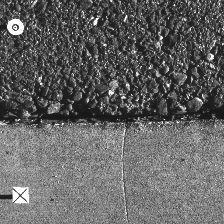circle: (6, 18, 24, 36)
crack: (1, 108, 223, 127)
square: (12, 187, 28, 203)
